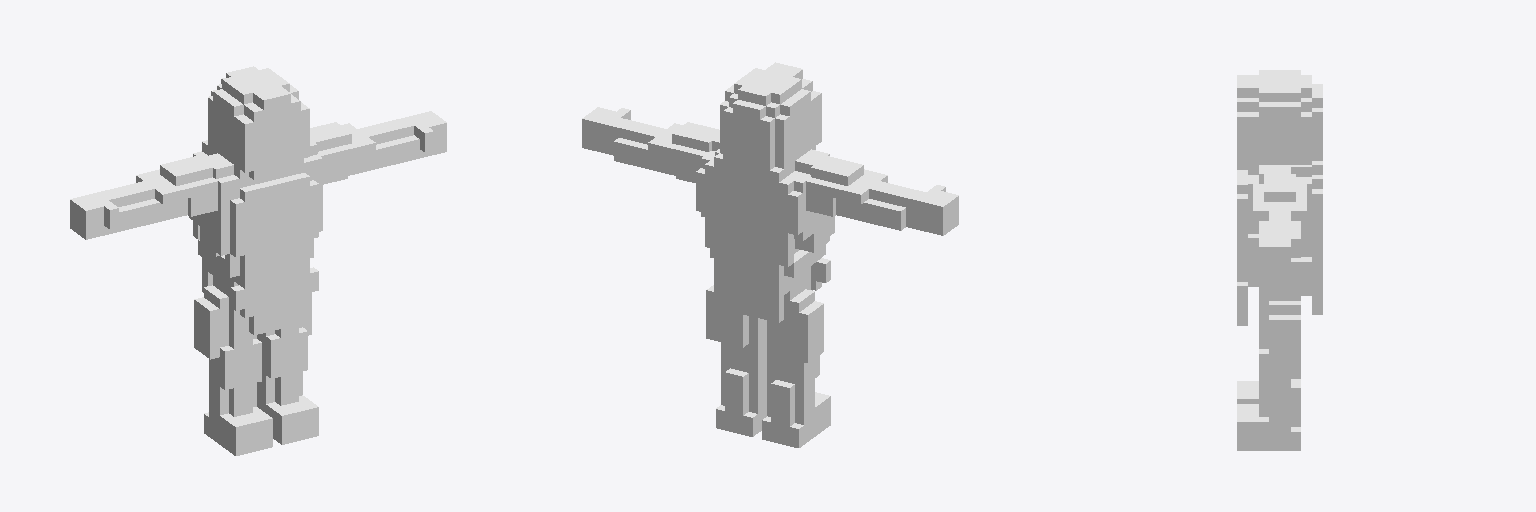
Rendered from Character-3.obj.
The picture shows the model from 3 angles: view 1: azimuth 30°, elevation 25°; view 2: azimuth 150°, elevation 25°; view 3: azimuth 270°, elevation 25°; orthographic projection.
Visible parts, largest first — view 1: object 1; view 2: object 1; view 3: object 1.
Boxes of the visible parts, x1,y1,x2,y2 form: object 1: [70, 66, 446, 455]; object 1: [582, 62, 958, 447]; object 1: [1237, 70, 1322, 450].
Bounding box in the file's own units: 7.8 × 7.2 × 1.6.